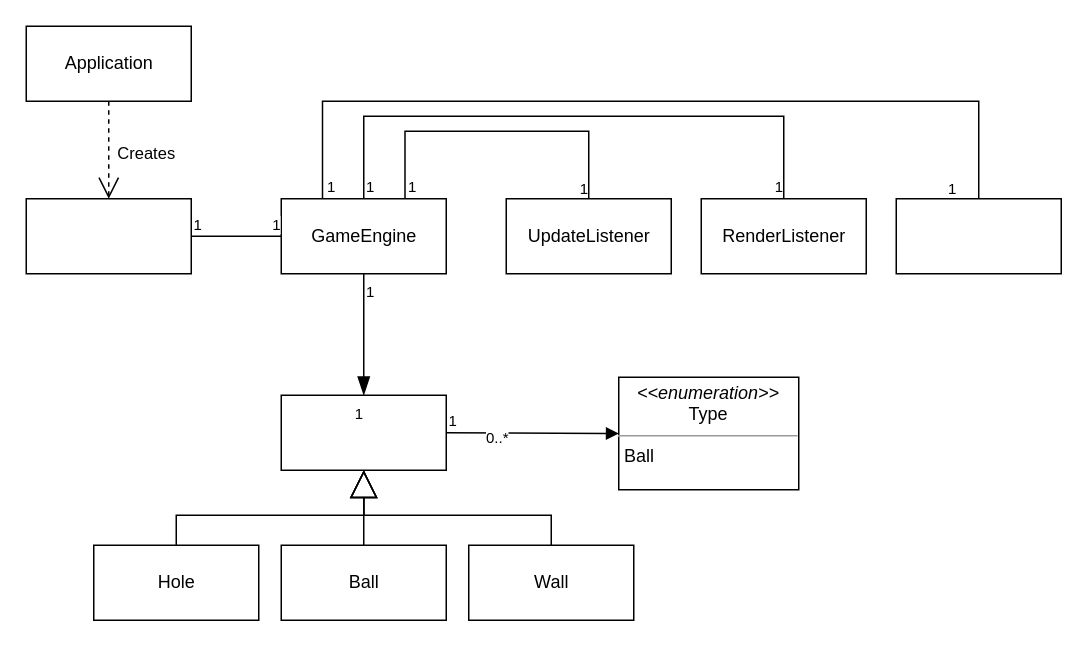
This 1088x647 diagram has some shape labels left out. Each missing label, with the centre of its shape:
"GameObject" belongs at (x=363, y=432).
"GameWindow" belongs at (x=108, y=235).
"MouseListener" belongs at (x=978, y=235).
